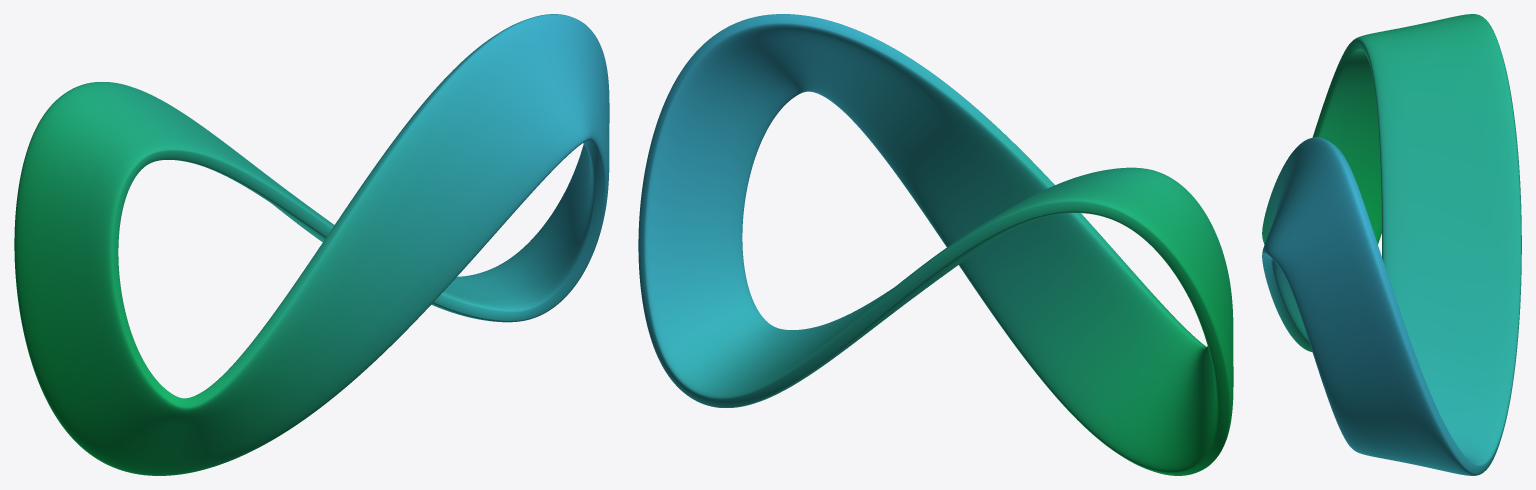
Rendered from fluent-mobius.glb.
3 views of the same model, side by side, from view 1: azimuth 30°, elevation 25°; view 2: azimuth 150°, elevation 25°; view 3: azimuth 270°, elevation 25° (orthographic). The views are drawn at different scales.
Visible parts, largest first — view 1: Fluent_mobius; view 2: Fluent_mobius; view 3: Fluent_mobius.
Part boxes in pixels (x1,y1,x2,y2): Fluent_mobius: [14, 14, 609, 475]; Fluent_mobius: [638, 14, 1233, 475]; Fluent_mobius: [1262, 14, 1521, 475].
Size of the model in its own units: 3.14 by 1.9 by 1.32.
